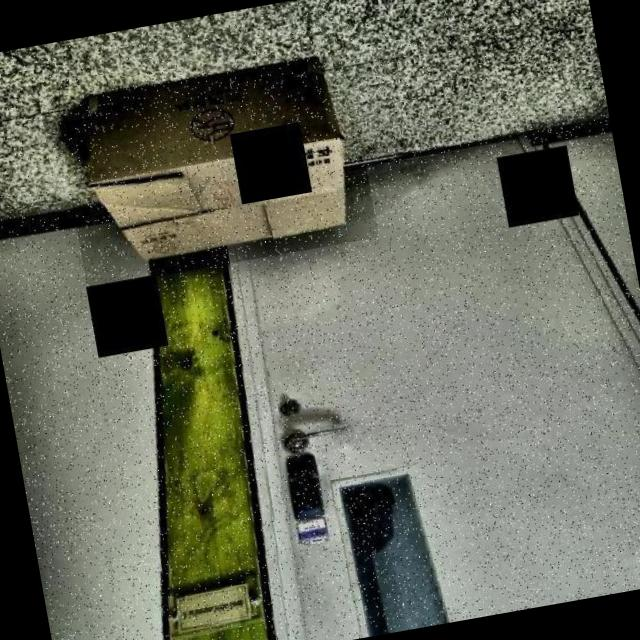box: (51, 33, 378, 288)
